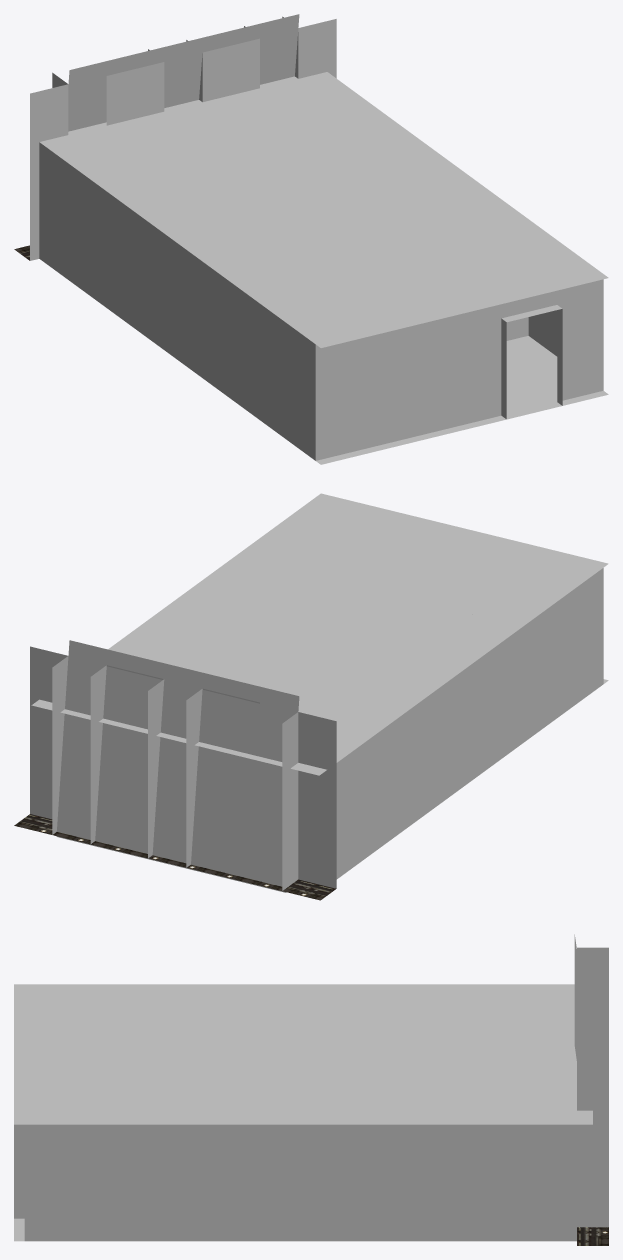
The model's file is scp_room_storage.dae.
3 renders of one model, top to bottom at view 1: azimuth 30°, elevation 25°; view 2: azimuth 150°, elevation 25°; view 3: azimuth 270°, elevation 25°, orthographic.
Parts seen in each view (by area): view 1: default.001, default.002; view 2: default.002, default.001, default; view 3: default.001, default.002, default.
Part boxes in pixels (<box>): default.001: <box>39,72,608,464</box>; default.002: <box>30,14,603,460</box>; default.002: <box>30,568,603,892</box>; default.001: <box>31,493,608,775</box>; default: <box>14,814,336,900</box>; default.001: <box>14,984,592,1241</box>; default.002: <box>14,934,608,1241</box>; default: <box>577,1227,608,1245</box>.
Size of the model in its own units: 10.56 by 17.76 by 6.16.
